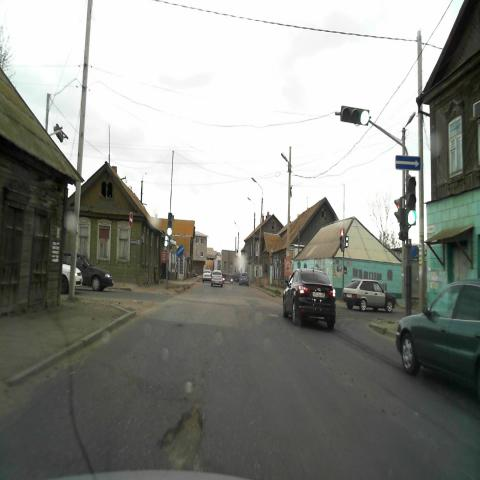5_7_1: (395, 156, 421, 171)
